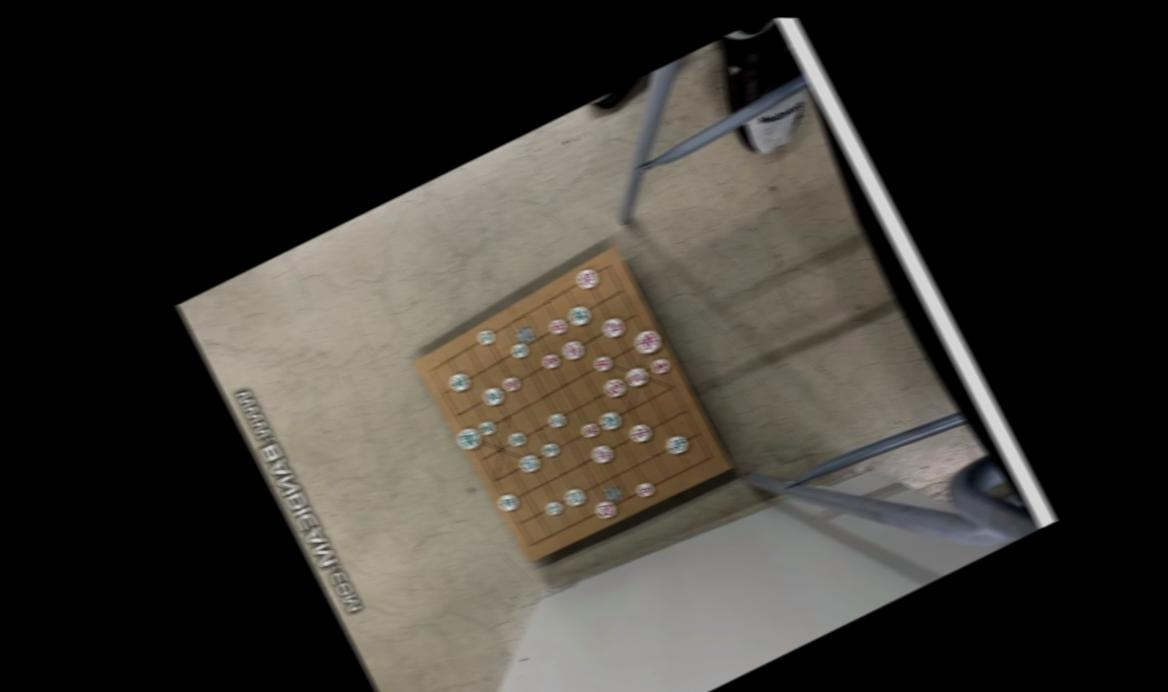cha_green: (664, 430, 691, 457), (496, 489, 521, 513)
cha_red: (573, 264, 602, 292), (628, 419, 654, 444)
jol_green: (539, 438, 562, 460), (476, 326, 497, 346), (510, 340, 531, 359), (547, 410, 567, 429), (544, 498, 563, 516)
jol_red: (633, 478, 657, 500), (546, 315, 569, 337), (540, 349, 562, 371), (580, 420, 601, 439), (501, 374, 521, 393)
ma_green: (561, 484, 589, 509), (480, 383, 505, 407)
ma_red: (600, 313, 627, 340), (623, 363, 651, 389)
po_green: (597, 408, 623, 432), (517, 450, 543, 474)
po_red: (593, 496, 619, 522), (602, 375, 628, 399)
sa_green: (477, 418, 497, 436), (508, 430, 527, 447)
sa_red: (648, 354, 672, 377), (593, 353, 614, 373)
sang_green: (565, 301, 593, 328), (447, 369, 472, 394)
sang_red: (589, 440, 617, 466), (561, 337, 587, 361)
wang_green: (454, 423, 484, 453)
wang_red: (631, 326, 664, 357)
